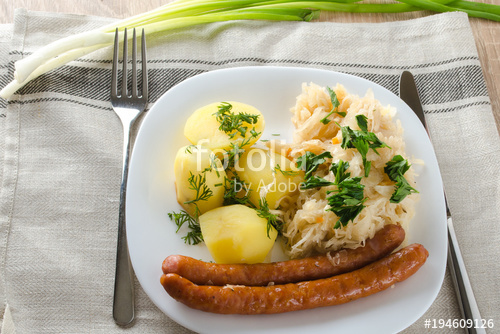boiled potatoes: (167, 96, 299, 259)
plain rice: (297, 82, 413, 249)
